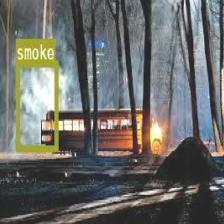smoke: (15, 60, 57, 150)
